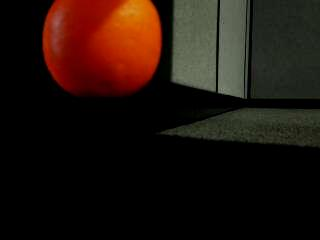Orange: (43, 0, 162, 99)
